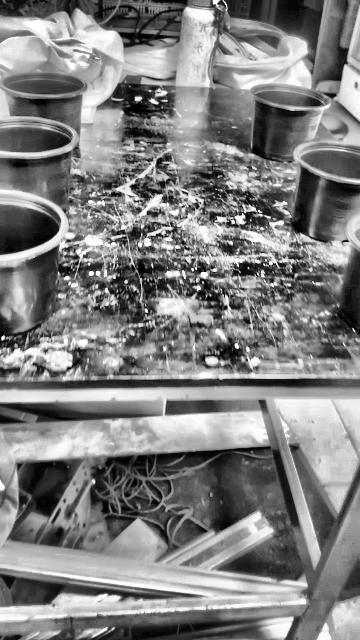pot: (0, 190, 67, 335), (0, 116, 78, 211), (291, 142, 360, 243), (251, 85, 331, 162), (0, 73, 87, 137), (339, 215, 359, 329)
